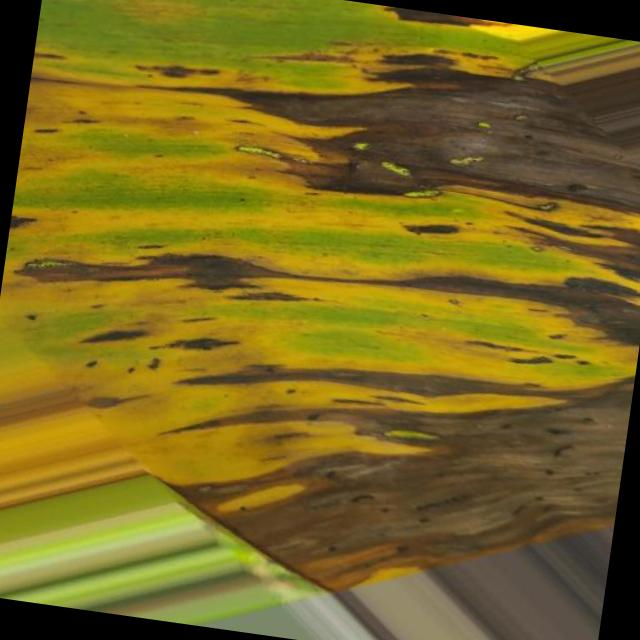Banana_Black_Sigatoka: (21, 217, 640, 604), (26, 0, 640, 293)
